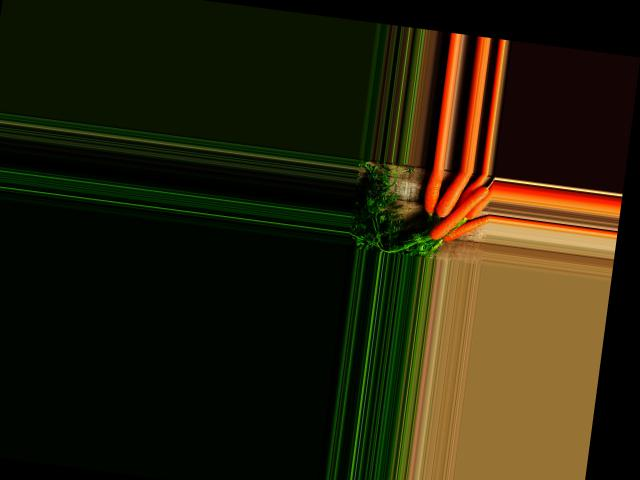carrot: (463, 185, 469, 220)
